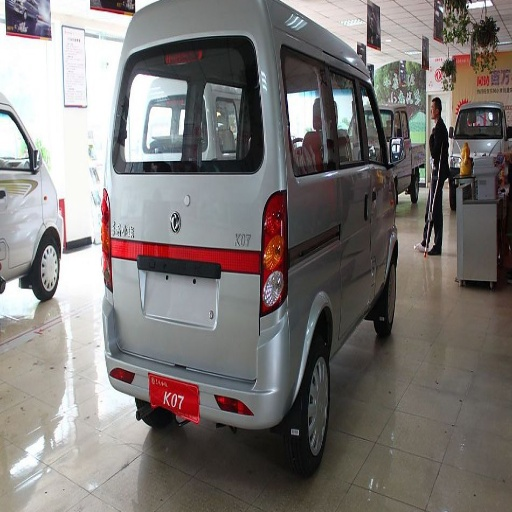back_bumper: (107, 289, 307, 429)
back_glass: (117, 40, 262, 171)
trunk: (113, 175, 273, 375)
